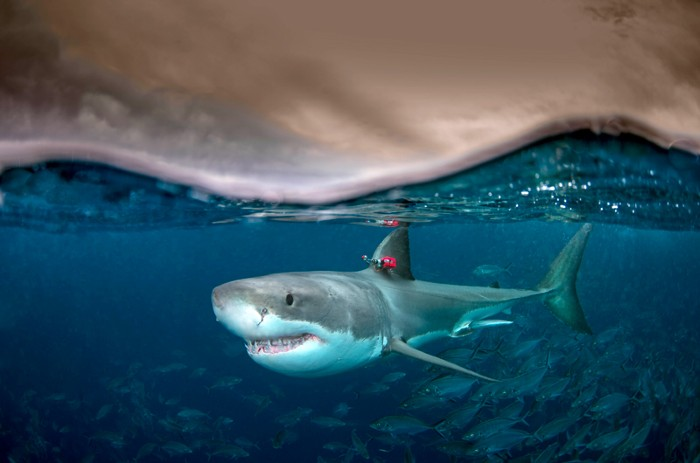shark: (188, 216, 619, 396)
